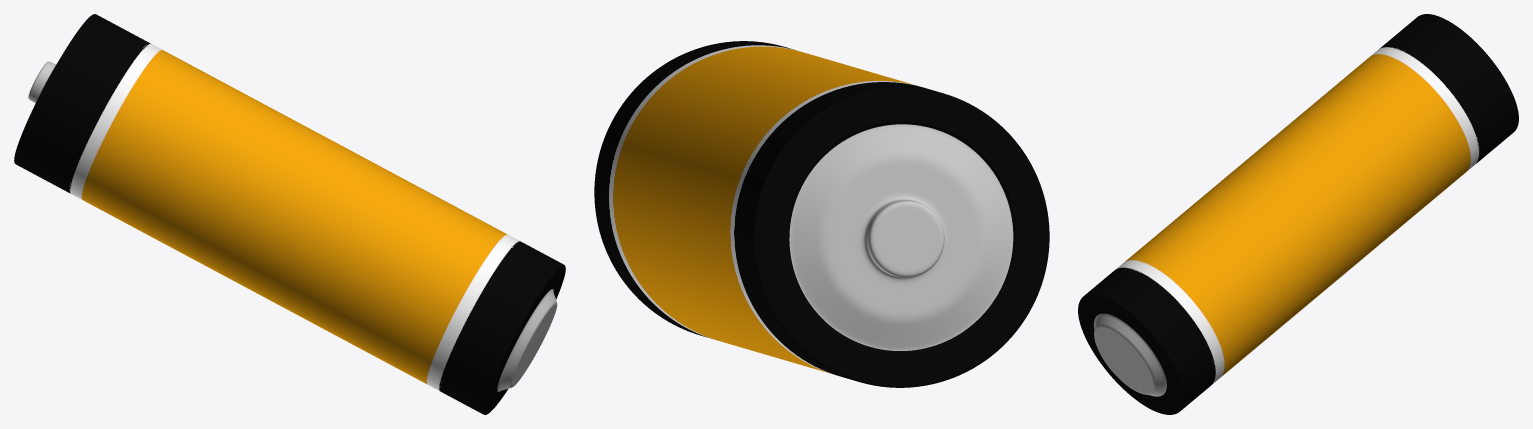
File: Battery_1.5V.fbx
3 renders of one model, left to right at view 1: azimuth 30°, elevation 25°; view 2: azimuth 150°, elevation 25°; view 3: azimuth 270°, elevation 25°, orthographic. The views are drawn at different scales.
Parts seen in each view (by area): view 1: Cilindro; view 2: Cilindro; view 3: Cilindro.
Part boxes in pixels (left/top/right/bottom): Cilindro: left=14, top=14, right=565, bottom=414; Cilindro: left=594, top=41, right=1049, bottom=387; Cilindro: left=1078, top=14, right=1518, bottom=414.
Bounding box in the file's own units: 4.04 × 3.14 × 4.4.
Materials: 1 (1 with a texture image).
